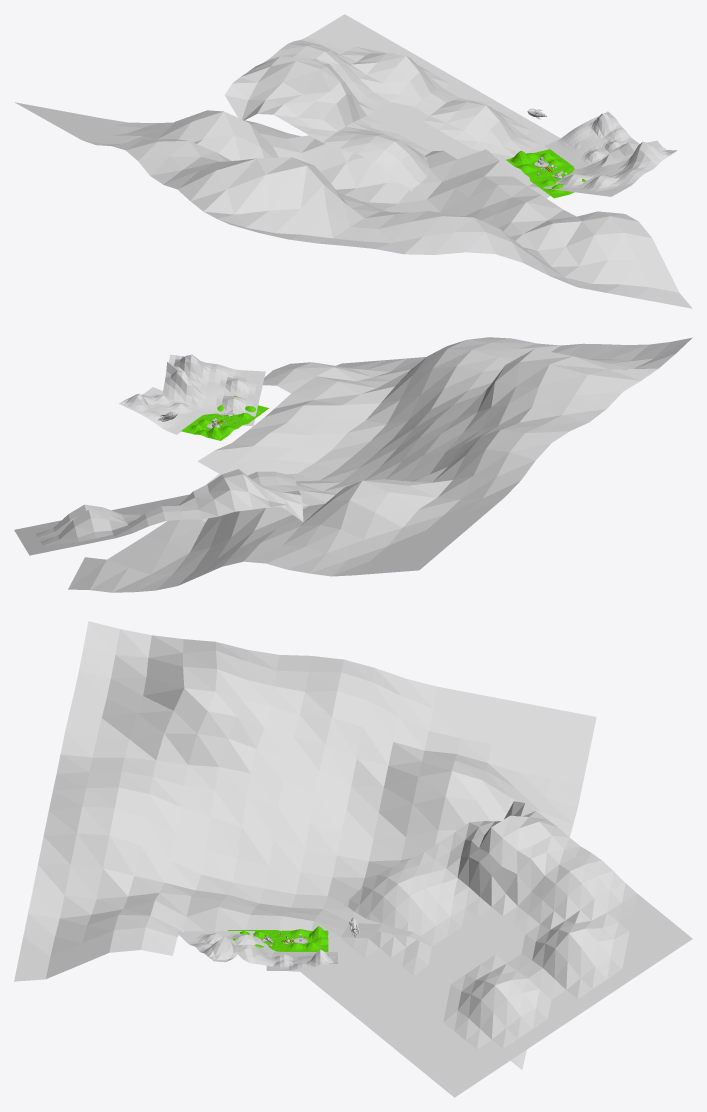
The picture shows the model from 3 angles, top to bottom: view 1: azimuth 30°, elevation 25°; view 2: azimuth 150°, elevation 25°; view 3: azimuth 270°, elevation 25°; orthographic projection. The views are drawn at different scales.
Visible parts, largest first — view 1: Terrain 002, Terrain.001; view 2: Terrain 002, Terrain.001; view 3: Terrain 002, Terrain.001.
Part boxes in pixels (x1,y1,x2,y2): Terrain 002: (15, 14, 692, 308); Terrain.001: (506, 149, 586, 198); Terrain 002: (14, 337, 692, 592); Terrain.001: (181, 395, 269, 440); Terrain 002: (14, 621, 692, 1097); Terrain.001: (228, 926, 328, 951).
Bounding box in the file's own units: 437 × 171 × 467.
